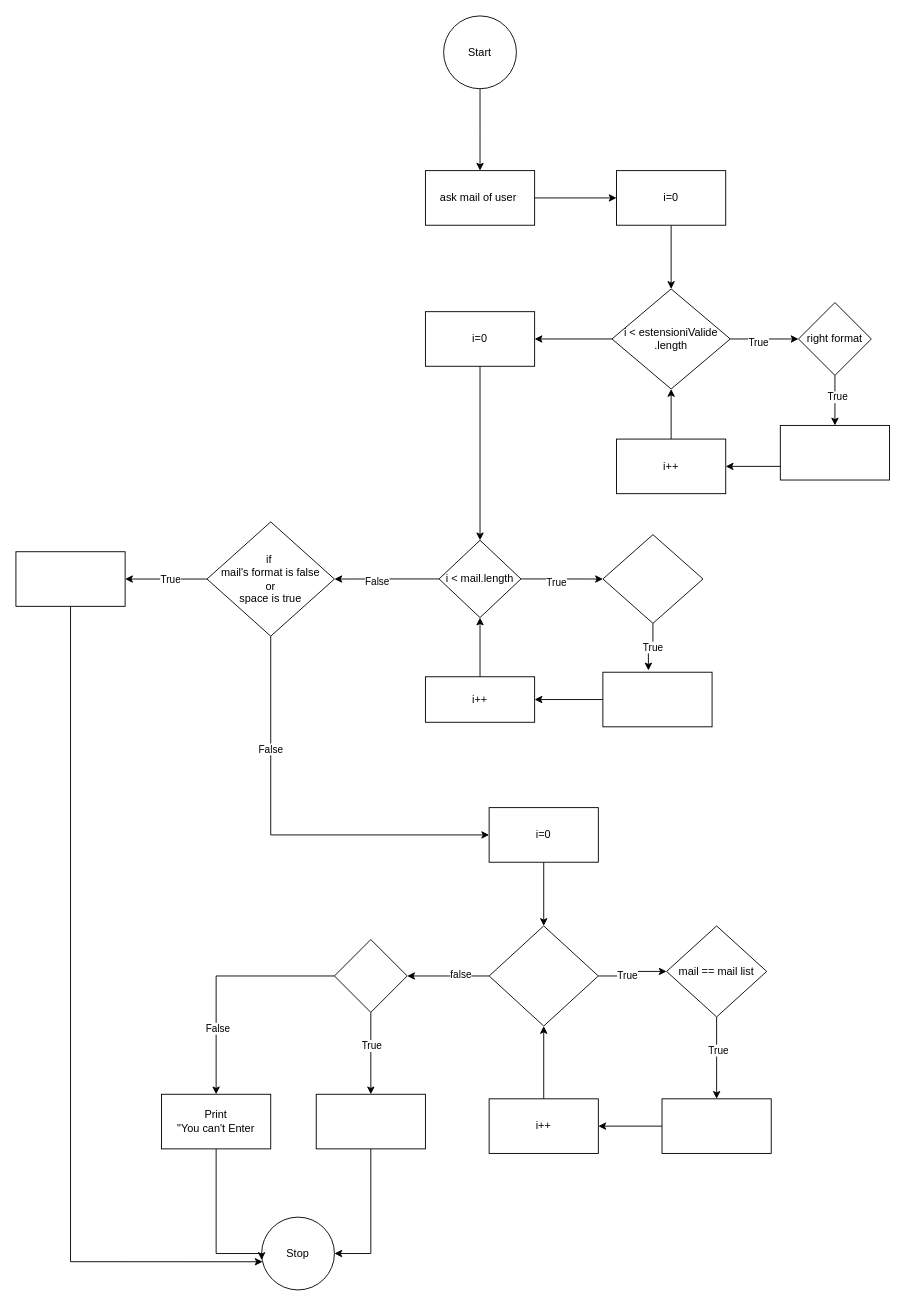
Some shapes in this 905 by 1306 pixel diagram are drawn without their labels. Each missing label, with the box of its shape:
estensioneCorretta = true: (779, 425, 890, 480)
faindMail= True: (334, 939, 407, 1012)
find mail = true: (661, 1098, 771, 1153)
i= mail list .length: (488, 925, 598, 1026)
if are there any Space in mail address: (602, 534, 703, 623)
Print "Mail Address is incorrect": (15, 551, 125, 606)
Print "you can Enter": (315, 1093, 425, 1149)
Space in mail =True: (602, 671, 712, 727)
